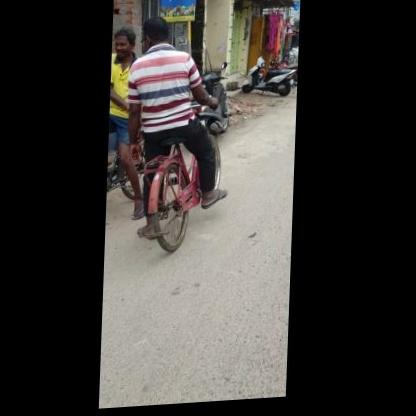Bicycle: (117, 93, 237, 261)
